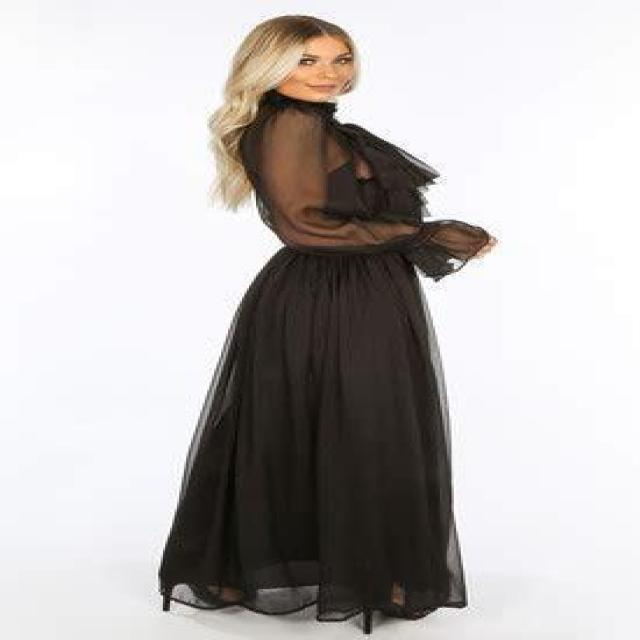dress: (157, 89, 464, 636)
